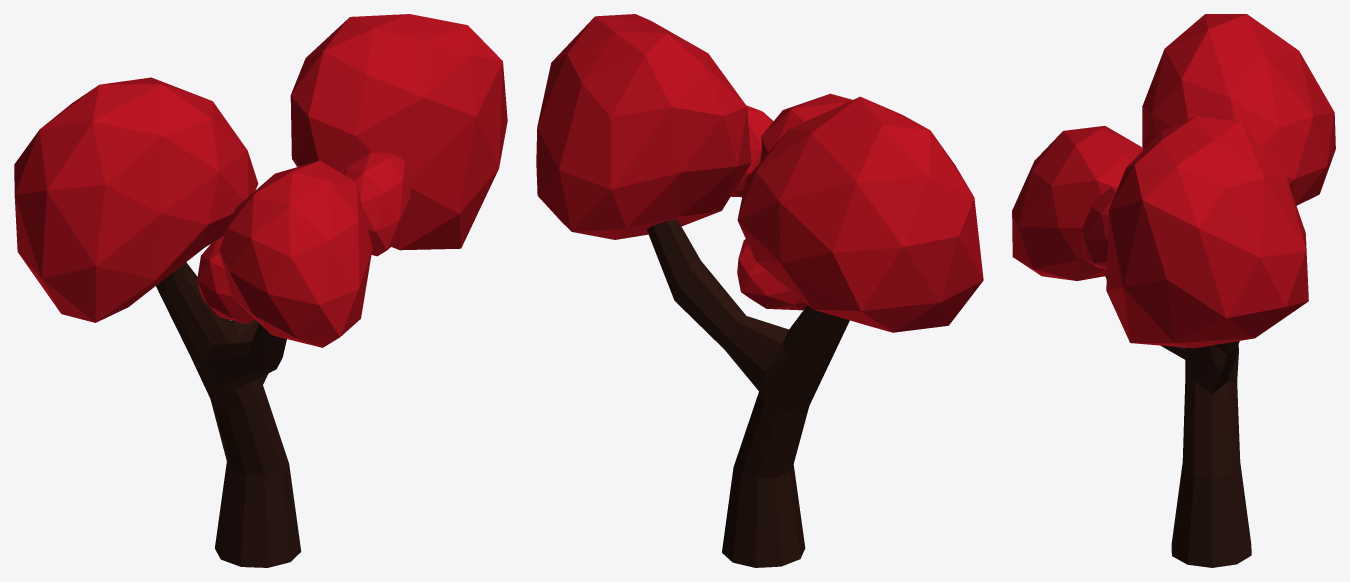
Rendered from t2-purple.obj.
The picture shows the model from 3 angles, left to right: view 1: azimuth 30°, elevation 25°; view 2: azimuth 150°, elevation 25°; view 3: azimuth 270°, elevation 25°; orthographic projection. The views are drawn at different scales.
Parts seen in each view (by area): view 1: t2-purple_Icosphere.013; view 2: t2-purple_Icosphere.013; view 3: t2-purple_Icosphere.013.
Boxes of the visible parts, x1,y1,x2,y2 form: t2-purple_Icosphere.013: (14, 14, 507, 567); t2-purple_Icosphere.013: (536, 14, 983, 567); t2-purple_Icosphere.013: (1012, 14, 1335, 567).
Bounding box in the file's own units: 6.73 × 7.18 × 4.35.
